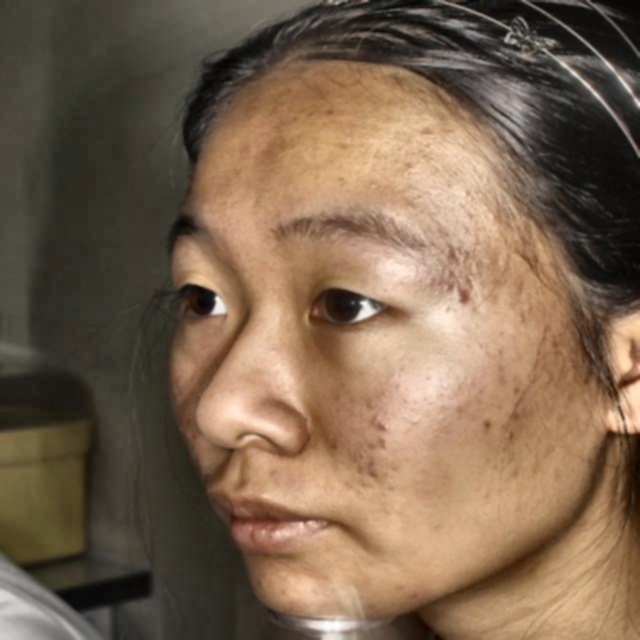comedone: (361, 413, 400, 452), (449, 281, 477, 313), (358, 458, 389, 483)
